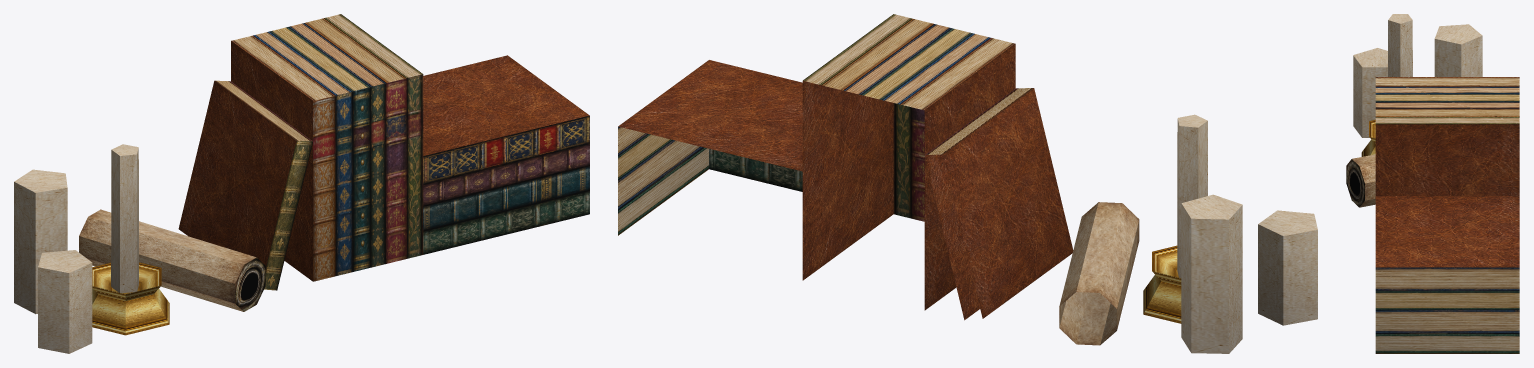
Rendered from mm9_deco_shelfitem01.glb.
3 renders of one model, left to right at view 1: azimuth 30°, elevation 25°; view 2: azimuth 150°, elevation 25°; view 3: azimuth 270°, elevation 25°, orthographic. The views are drawn at different scales.
Visible parts, largest first — view 1: Shelfitem01; view 2: Shelfitem01; view 3: Shelfitem01.
Part boxes in pixels (box(x1,y1,x2,y2)): Shelfitem01: box(14, 14, 589, 353); Shelfitem01: box(618, 14, 1317, 353); Shelfitem01: box(1346, 14, 1519, 353).
Size of the model in its own units: 1.11 by 0.3477 by 0.3446.
Materials: 1 (1 with a texture image).
